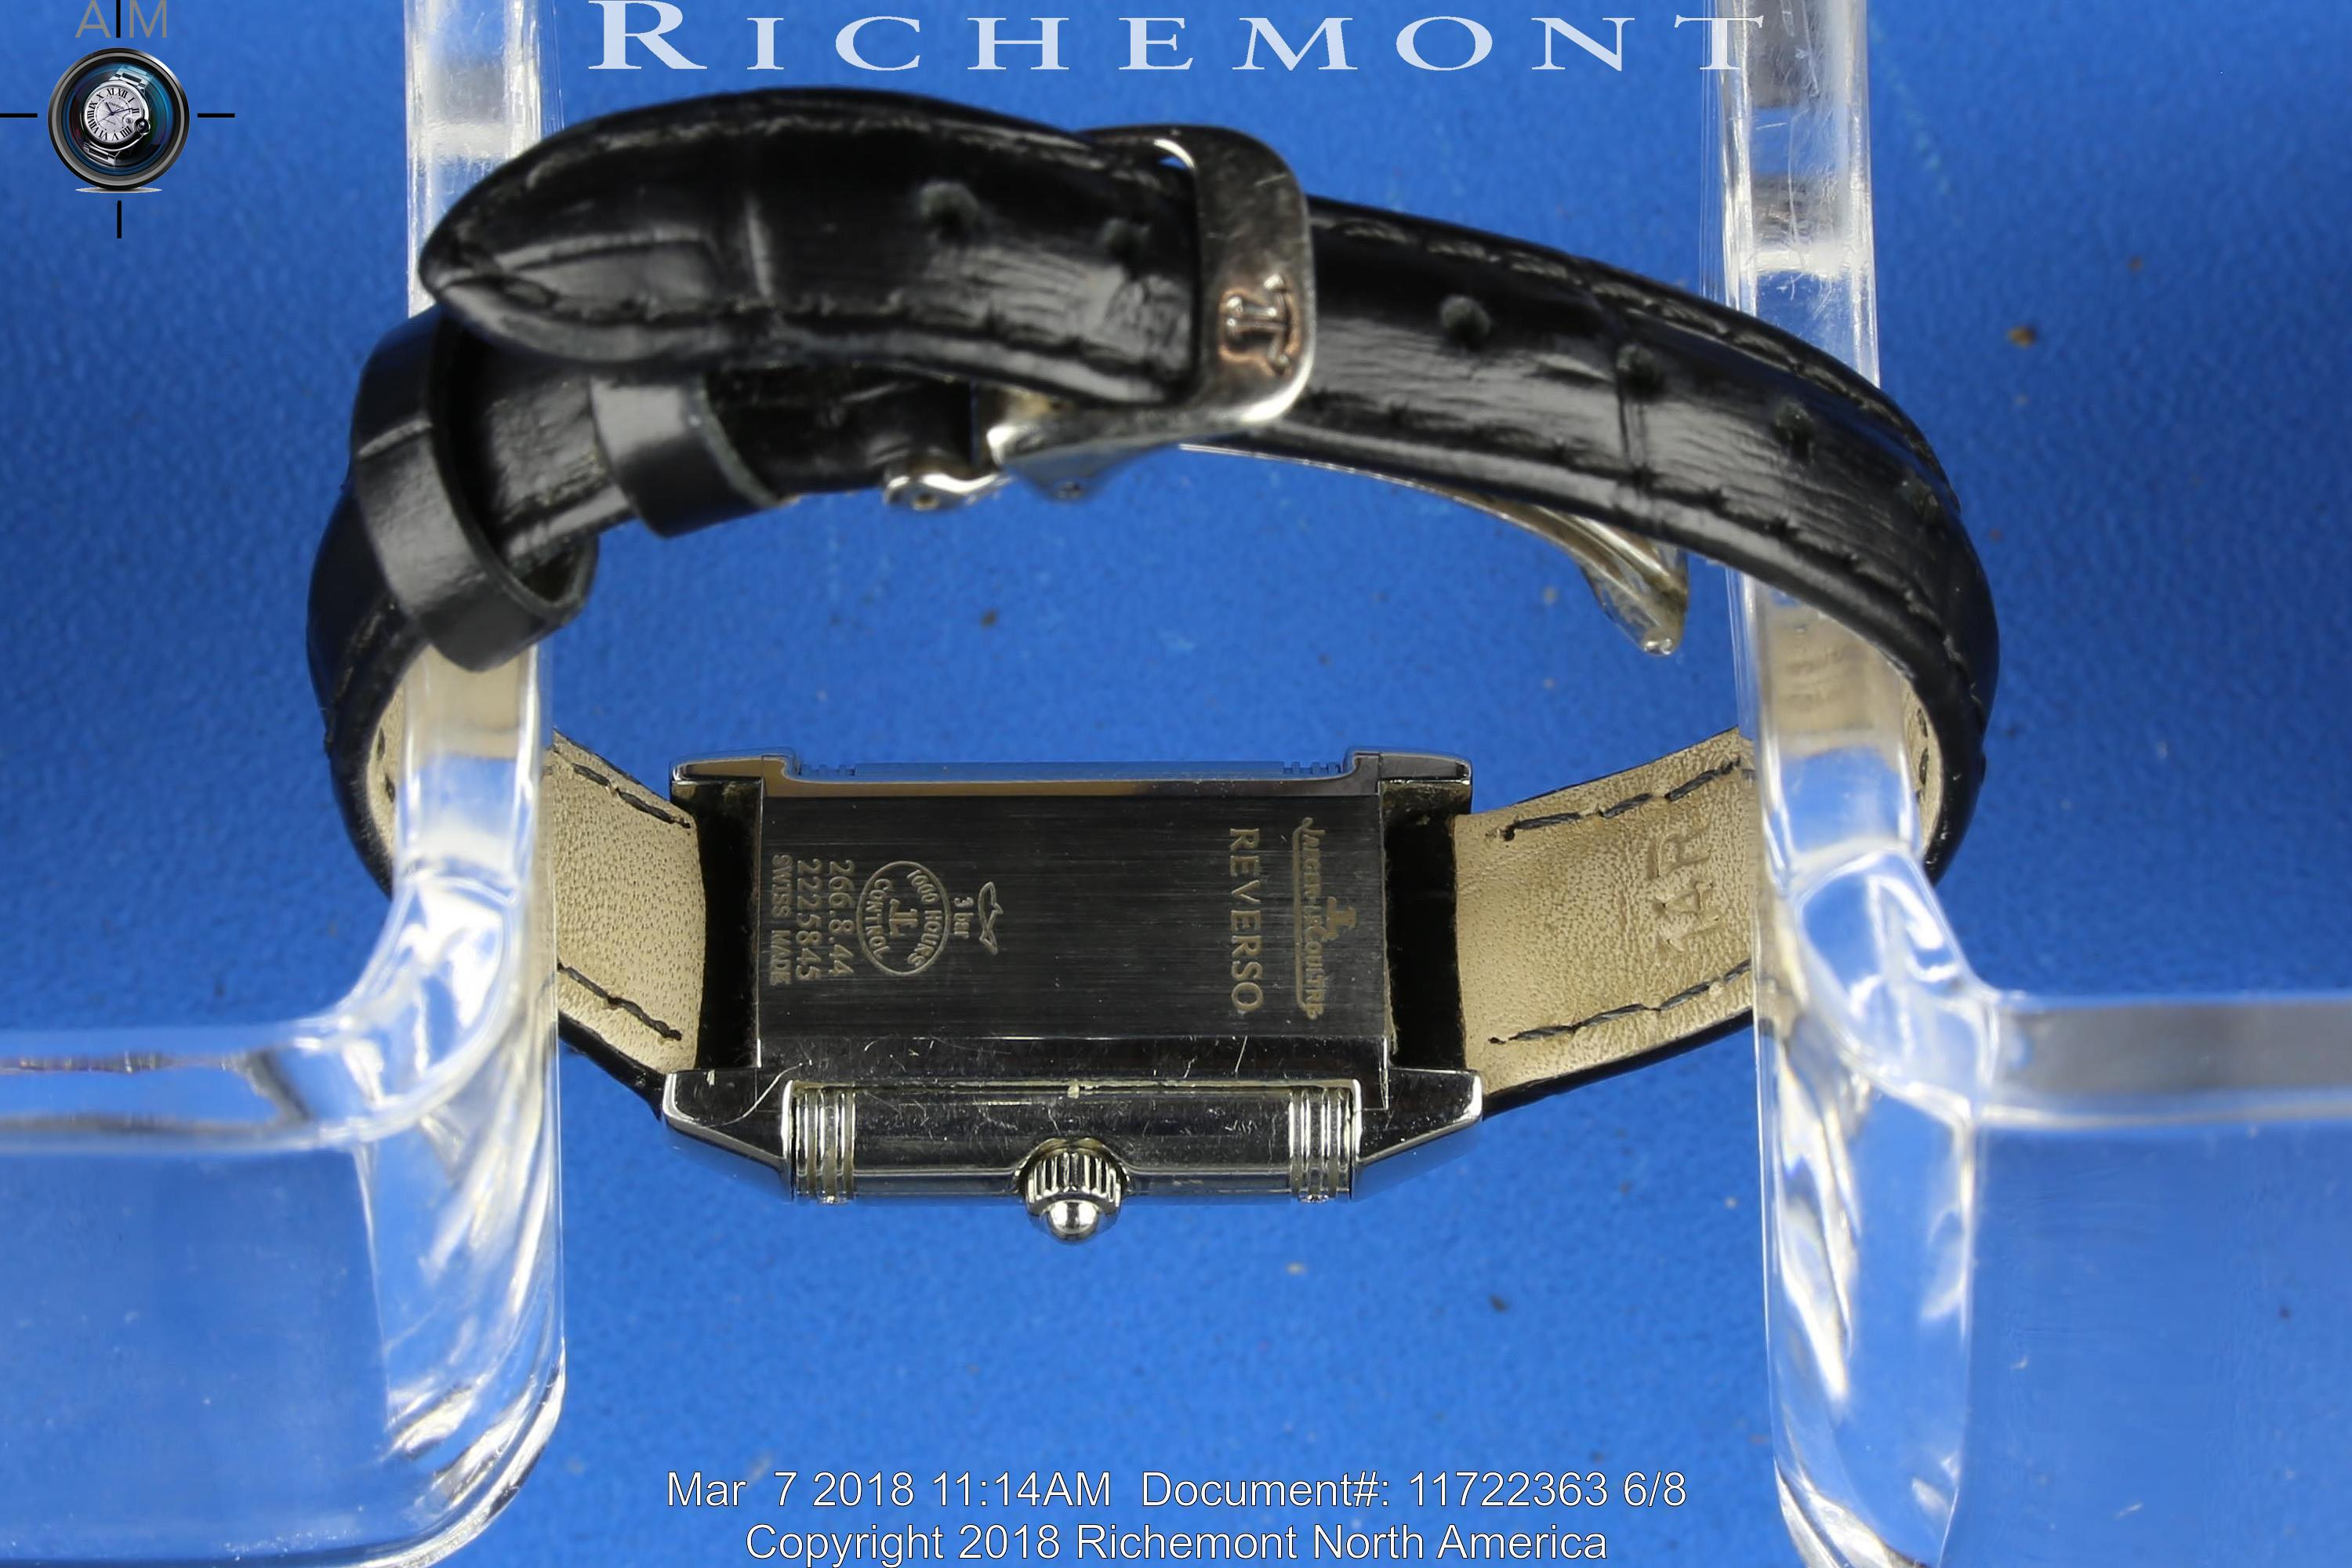Watch Back Case: (667, 752, 1472, 1243)
